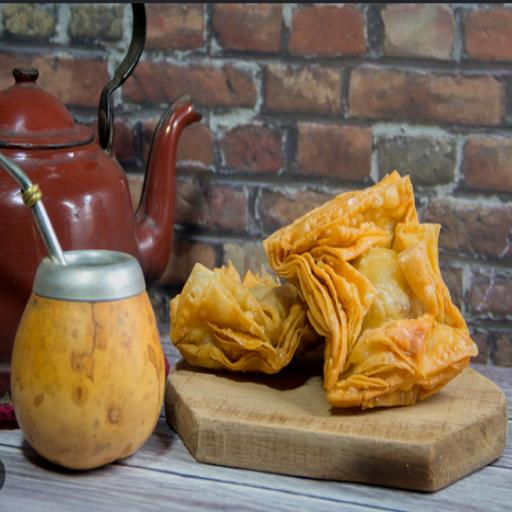bolleria: (264, 172, 477, 408), (170, 264, 317, 373)
mate: (11, 252, 165, 469)
